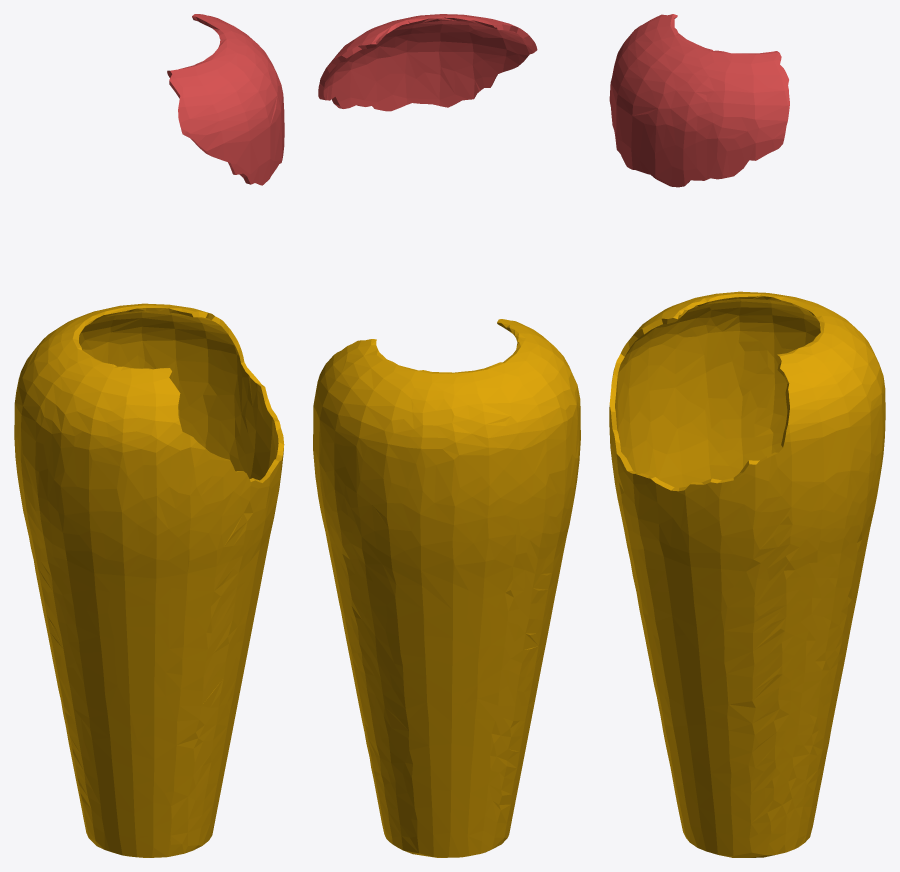
Rendered from fractured_18_2pcs_transformed.glb.
The picture shows the model from 3 angles, left to right: view 1: azimuth 30°, elevation 25°; view 2: azimuth 150°, elevation 25°; view 3: azimuth 270°, elevation 25°; orthographic projection. The views are drawn at different scales.
Visible parts, largest first — view 1: piece_0.obj, piece_1.obj; view 2: piece_0.obj, piece_1.obj; view 3: piece_0.obj, piece_1.obj.
Boxes of the visible parts, x1,y1,x2,y2 form: piece_0.obj: (14,303,284,857); piece_1.obj: (167,14,284,185); piece_0.obj: (313,319,580,857); piece_1.obj: (318,14,537,111); piece_0.obj: (609,291,885,857); piece_1.obj: (609,14,789,187).
Bounding box in the file's own units: 0.4943 × 1.6 × 0.4946.
